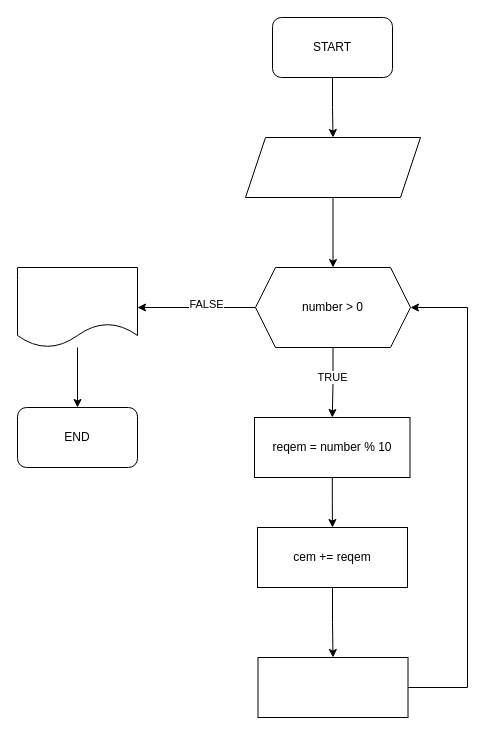
This 493x735 diagram has some shape labels left out. The centre of each missing label's shape, as x and y in pixels:
cem: the point at 77,307
number /= 10: the point at 332,687
number, cem = 0, reqem: the point at 332,167
